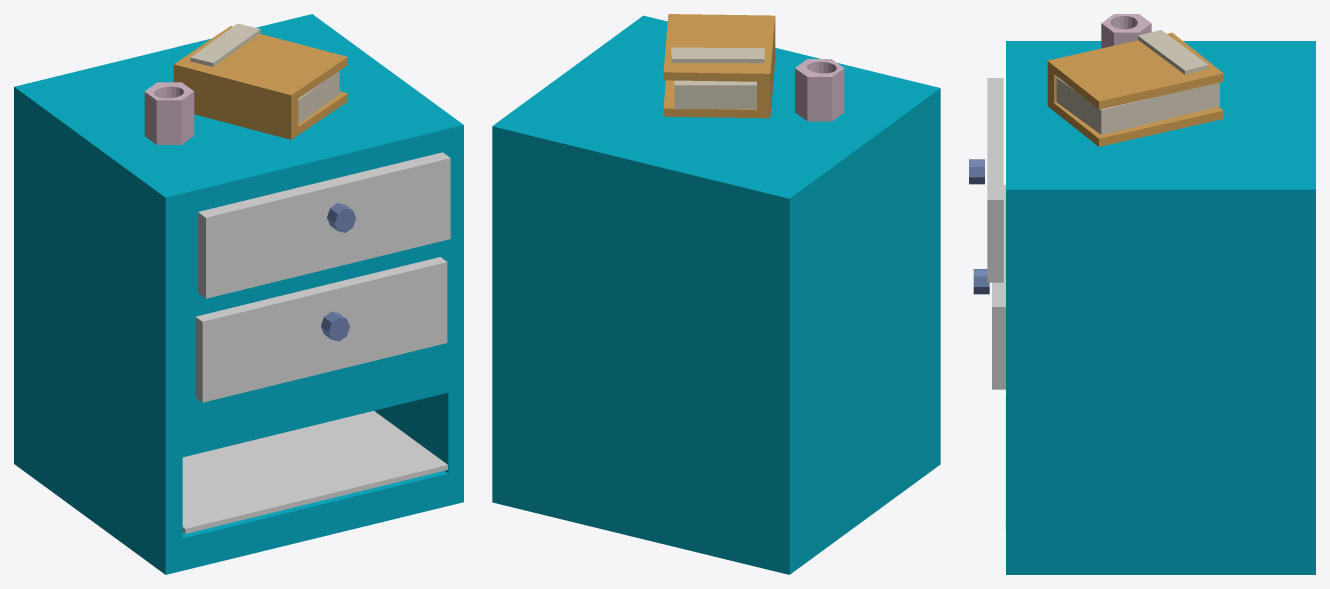
File: SIDE TABLE.glb
3 renders of one model, left to right at view 1: azimuth 30°, elevation 25°; view 2: azimuth 150°, elevation 25°; view 3: azimuth 270°, elevation 25°, orthographic. The views are drawn at different scales.
Parts seen in each view (by area): view 1: Mesh_Mesh_head_geo.001_lambert2SG.001; view 2: Mesh_Mesh_head_geo.001_lambert2SG.001; view 3: Mesh_Mesh_head_geo.001_lambert2SG.001.
Part boxes in pixels (x1=…): Mesh_Mesh_head_geo.001_lambert2SG.001: x1=14, y1=14, x2=463, y2=574; Mesh_Mesh_head_geo.001_lambert2SG.001: x1=492, y1=14, x2=940, y2=574; Mesh_Mesh_head_geo.001_lambert2SG.001: x1=969, y1=14, x2=1315, y2=574.
Size of the model in its own units: 77.07 by 108 by 76.
